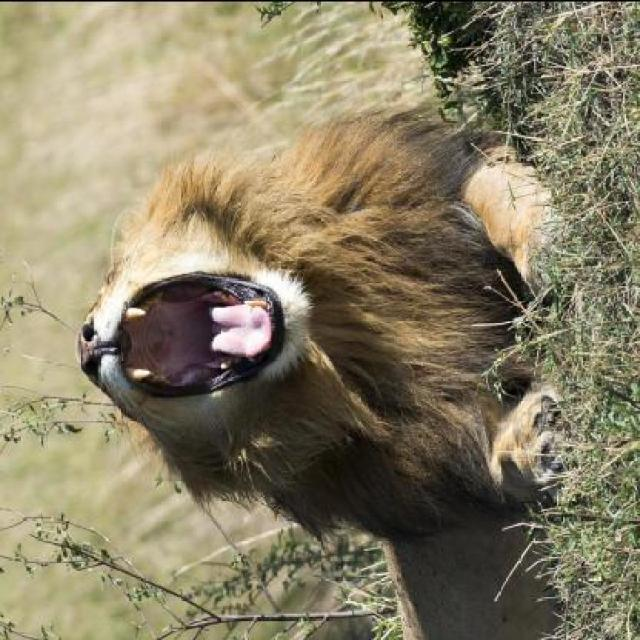Lion: (60, 91, 595, 638)
